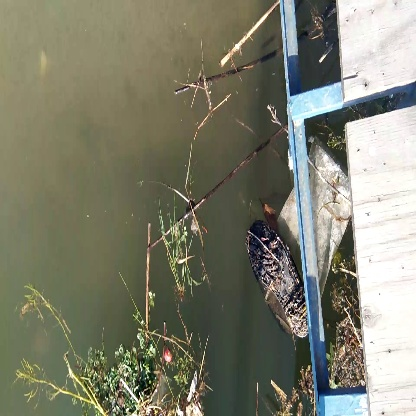plastic-garbage: (238, 216, 319, 339)
